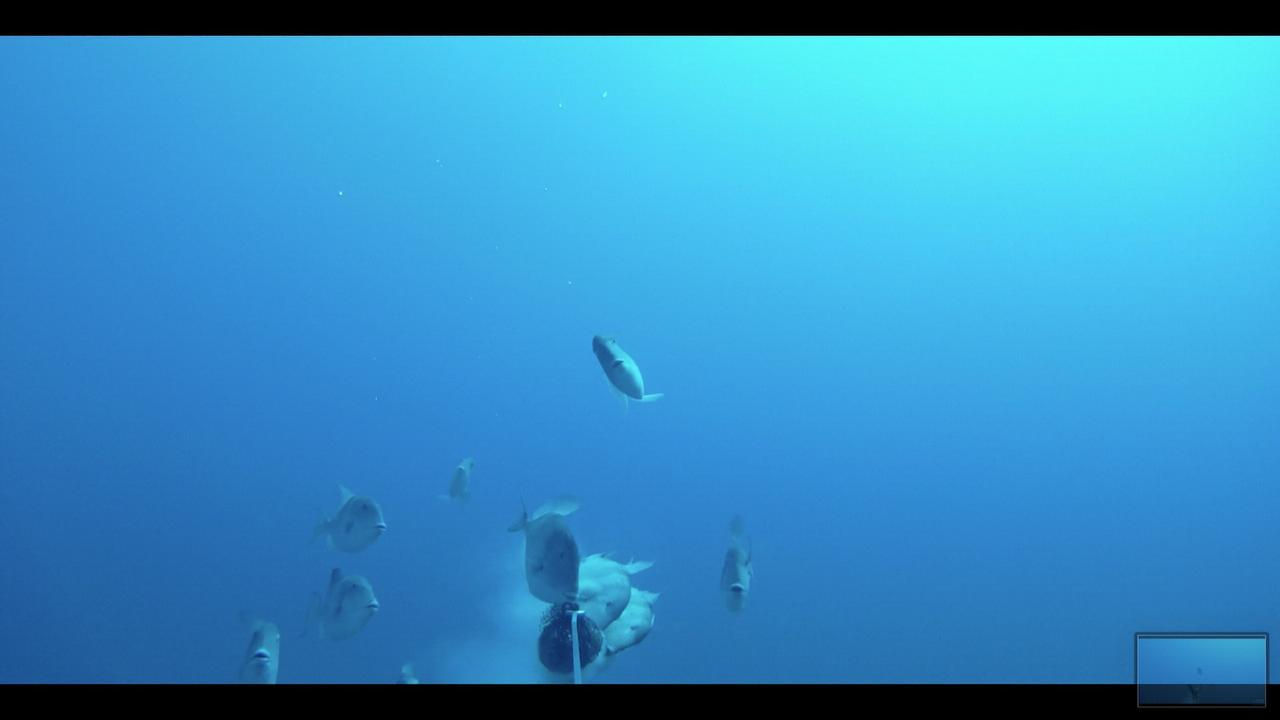balistes: (501, 491, 584, 608), (294, 481, 392, 556), (581, 329, 669, 410), (711, 505, 769, 626), (303, 558, 381, 639), (223, 609, 297, 683), (425, 446, 486, 507)
